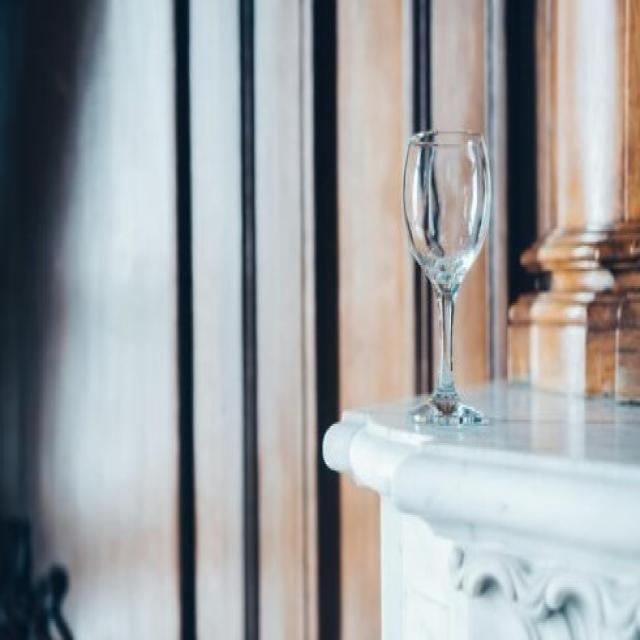electronic: (403, 125, 494, 431)
